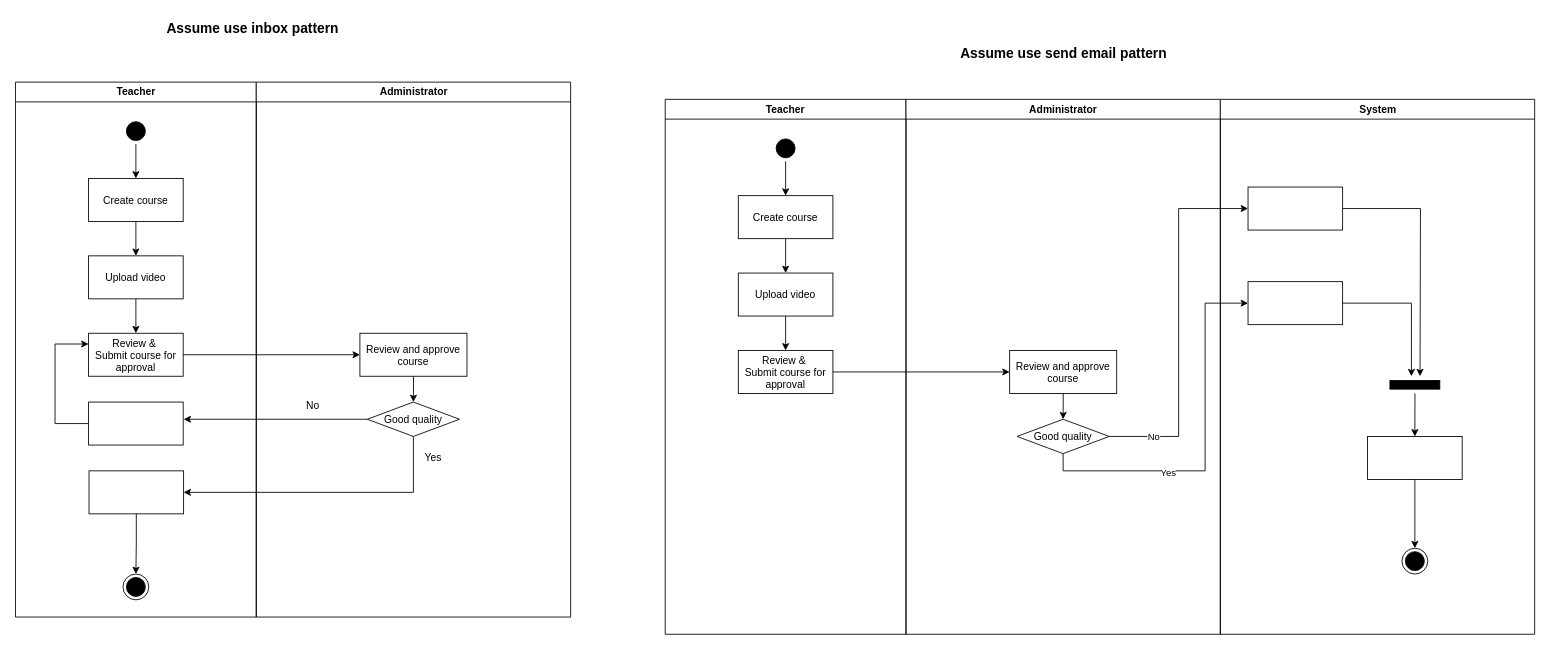
This 1550x649 diagram has some shape labels left out. Here are the shapes that lost their labels. From the top down, the centre of each, then its label:
At pixel 1295 208: "Create re-review email message".
At pixel 1295 303: "Create approve message".
At pixel 135 423: "Received feedback".
At pixel 1414 457: "Send email".
At pixel 136 492: "Get approval notice".
